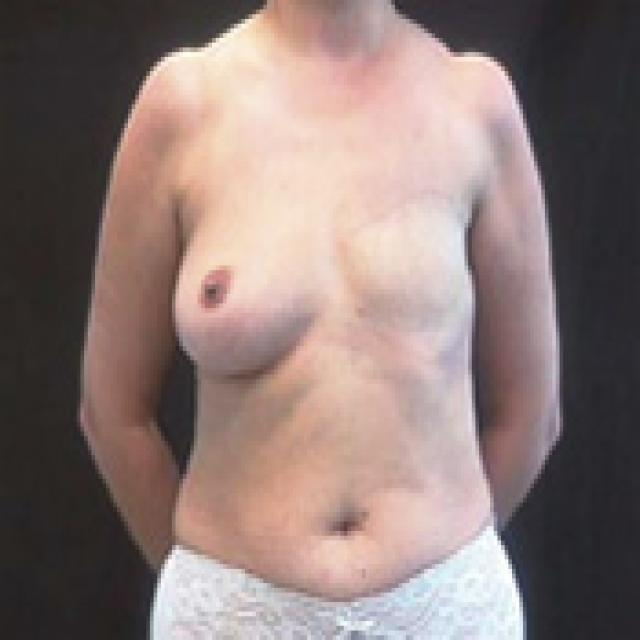Seno herido: (331, 176, 482, 372)
Seno ileso: (166, 190, 328, 400)
